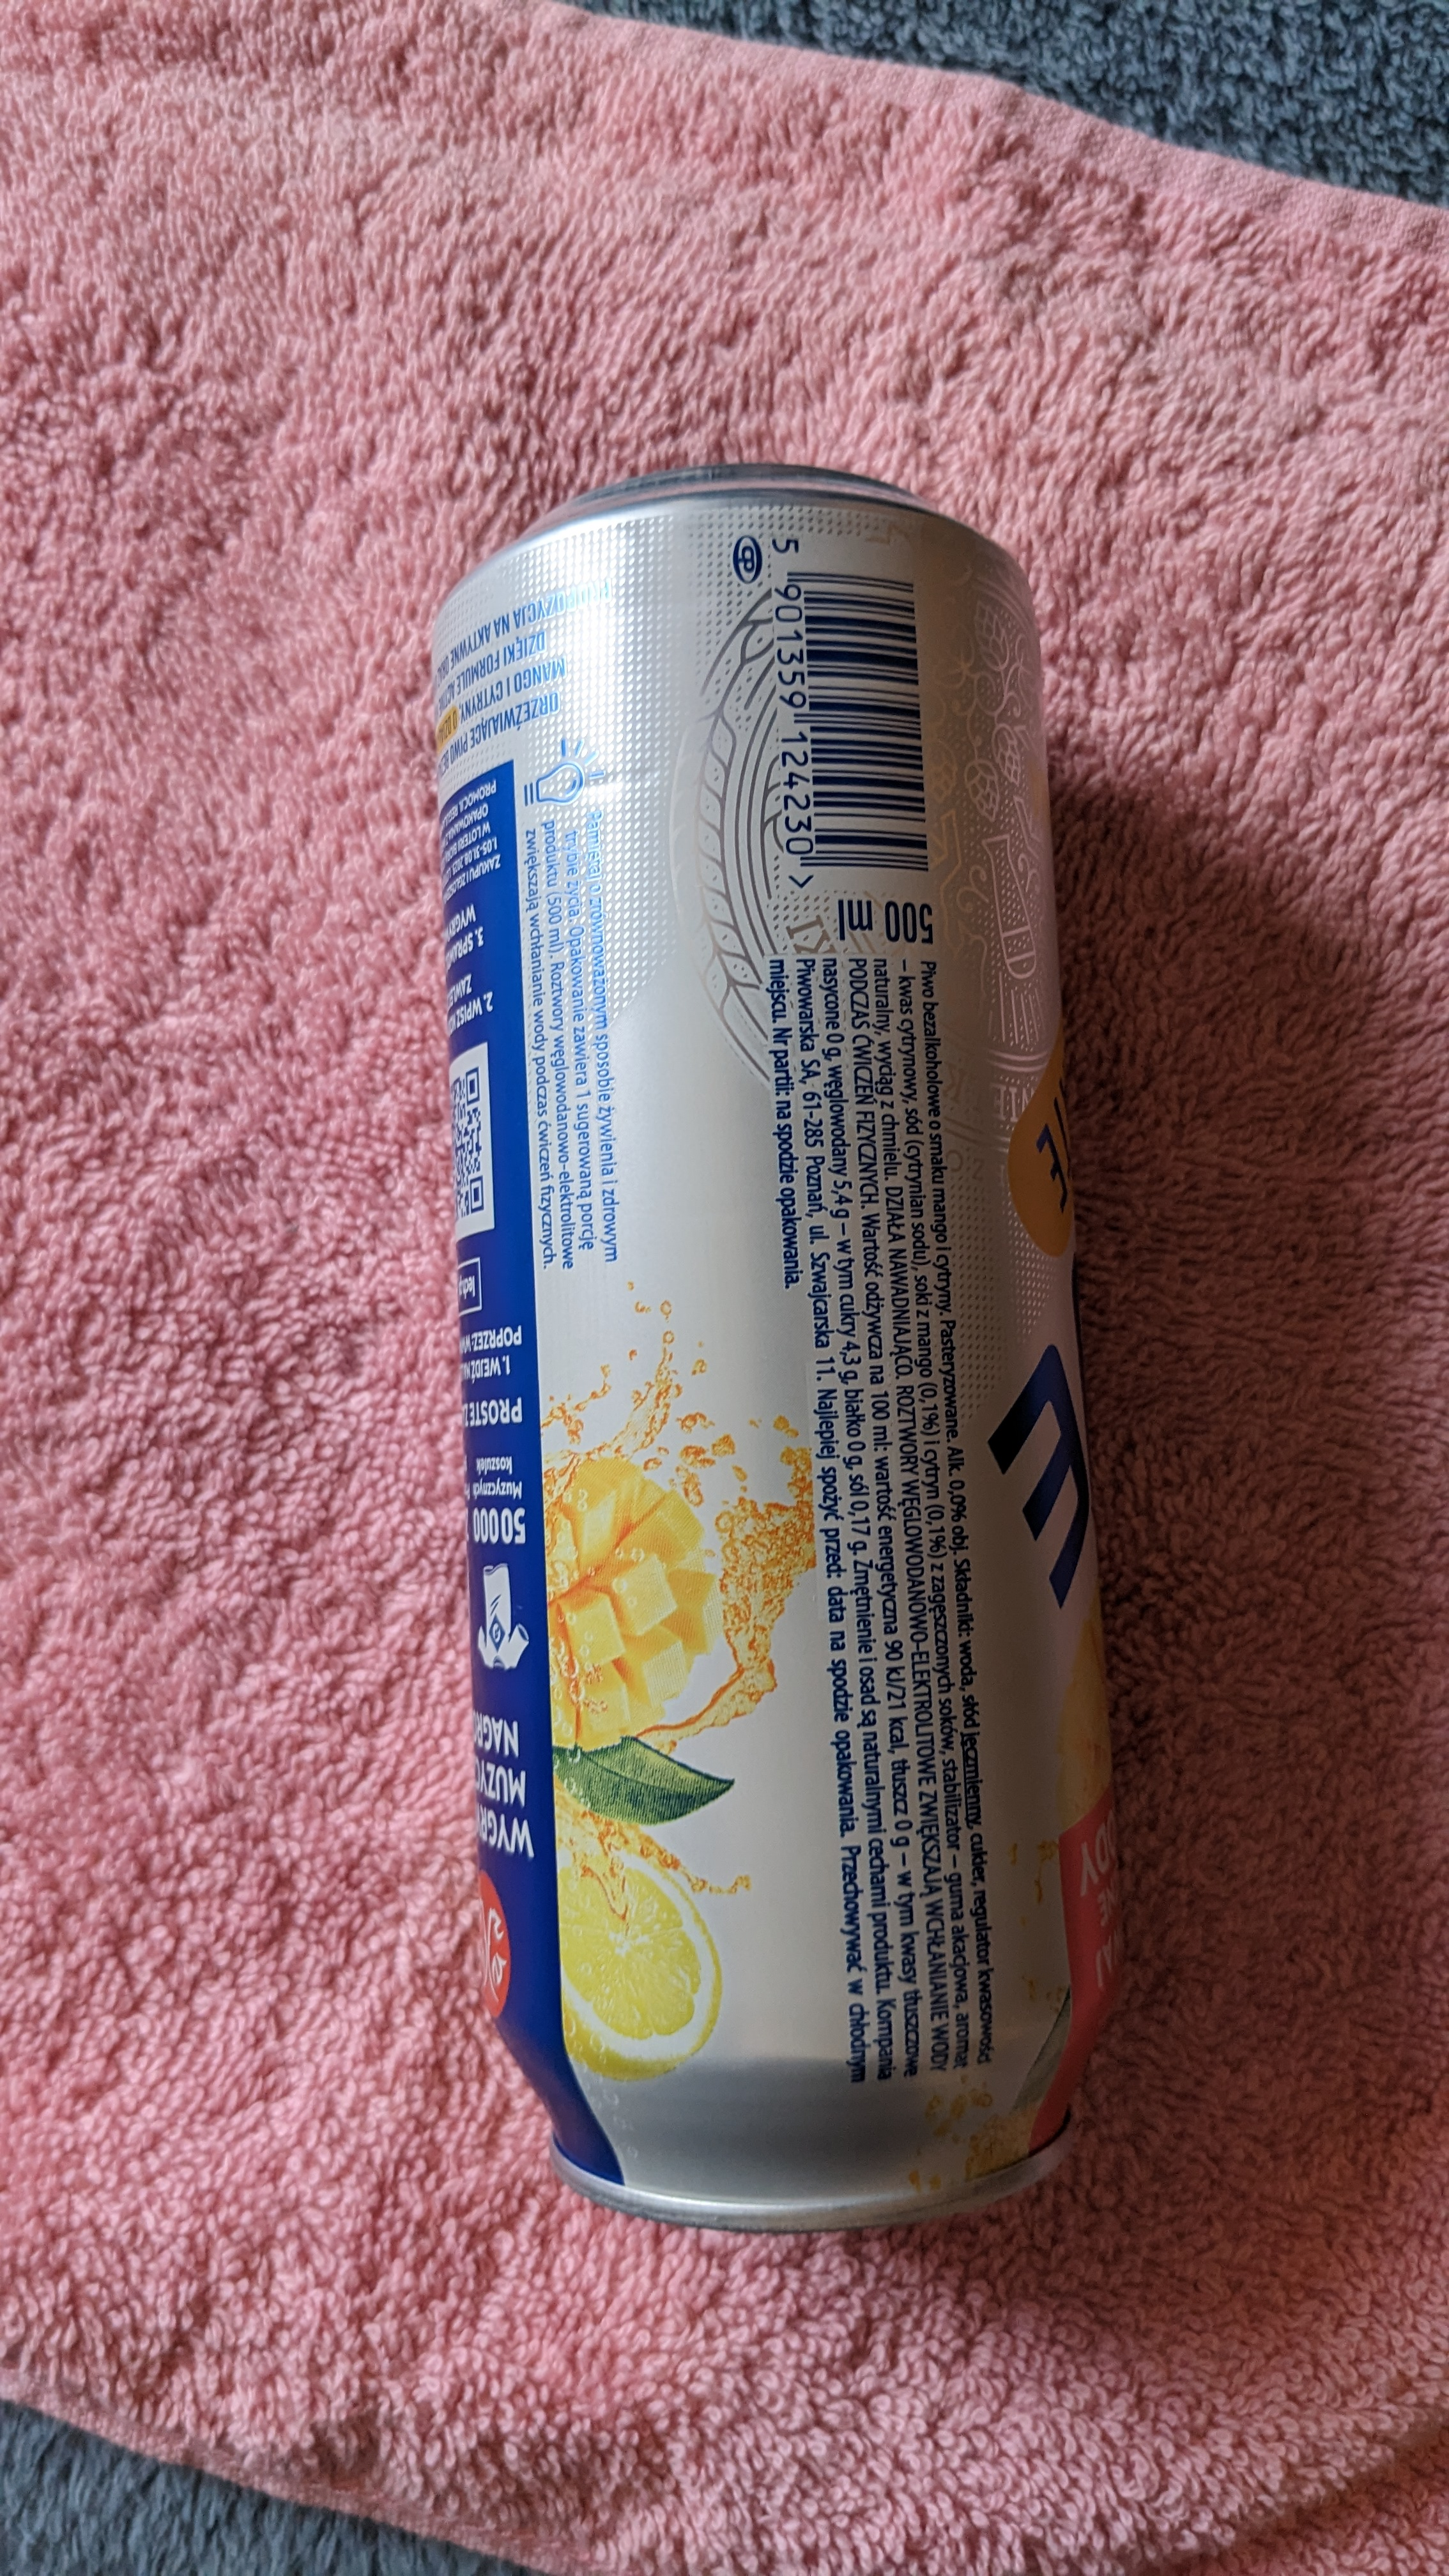lech-active: (375, 442, 1205, 2258)
